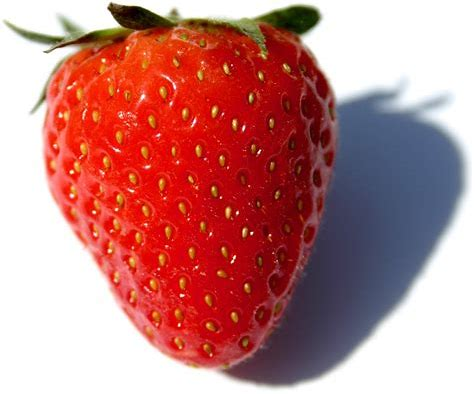strawberry: (42, 2, 341, 371)
